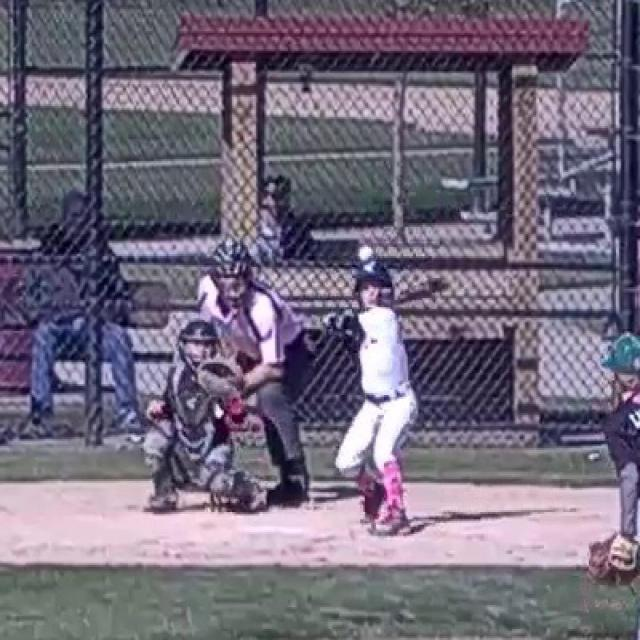baseball: (358, 247, 372, 261)
